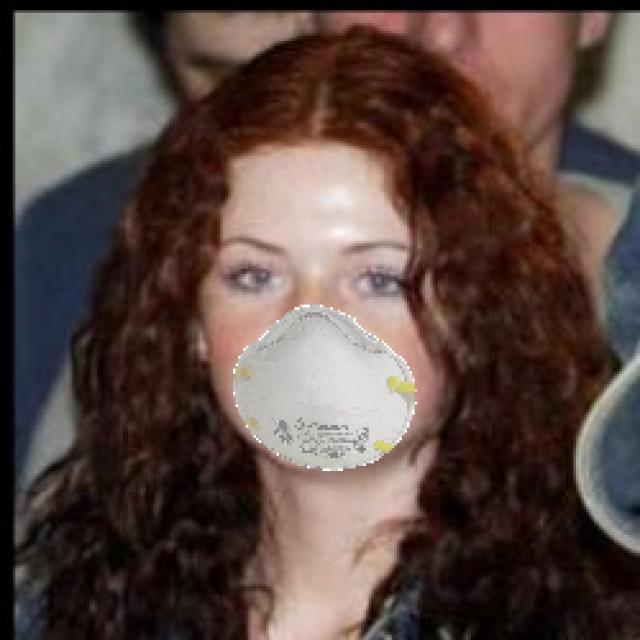mask: (205, 297, 437, 491)
